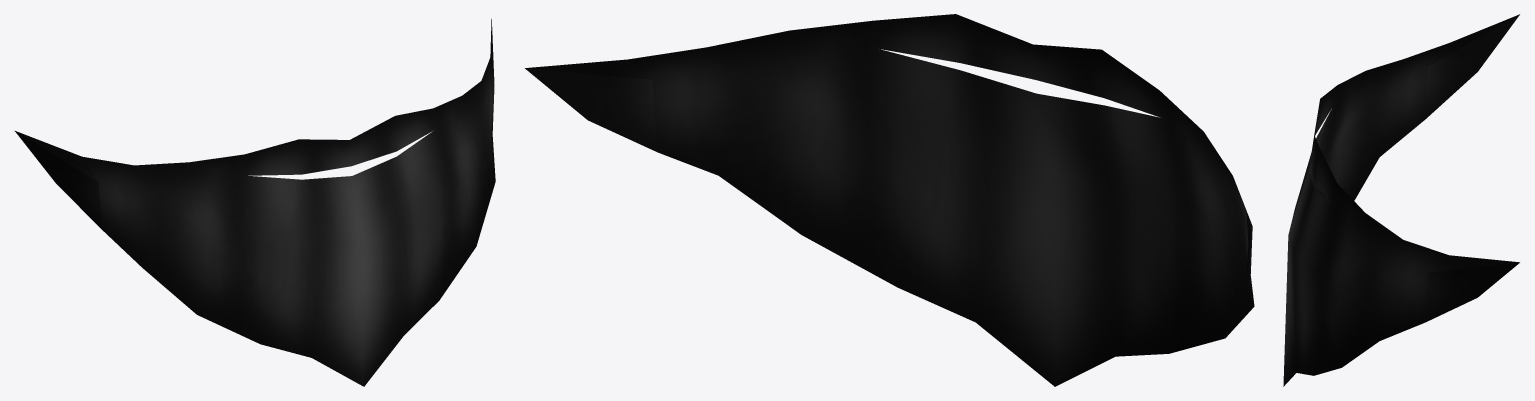
The model's file is m_b_gwanu.FBX.
3 renders of one model, left to right at view 1: azimuth 30°, elevation 25°; view 2: azimuth 150°, elevation 25°; view 3: azimuth 270°, elevation 25°, orthographic. The views are drawn at different scales.
Visible parts, largest first — view 1: beard_gwan-u; view 2: beard_gwan-u; view 3: beard_gwan-u.
Boxes of the visible parts, x1,y1,x2,y2 form: beard_gwan-u: (15,18,495,386); beard_gwan-u: (525,14,1254,386); beard_gwan-u: (1283,14,1519,386).
Bounding box in the file's own units: 8.36 × 4.13 × 3.37.
